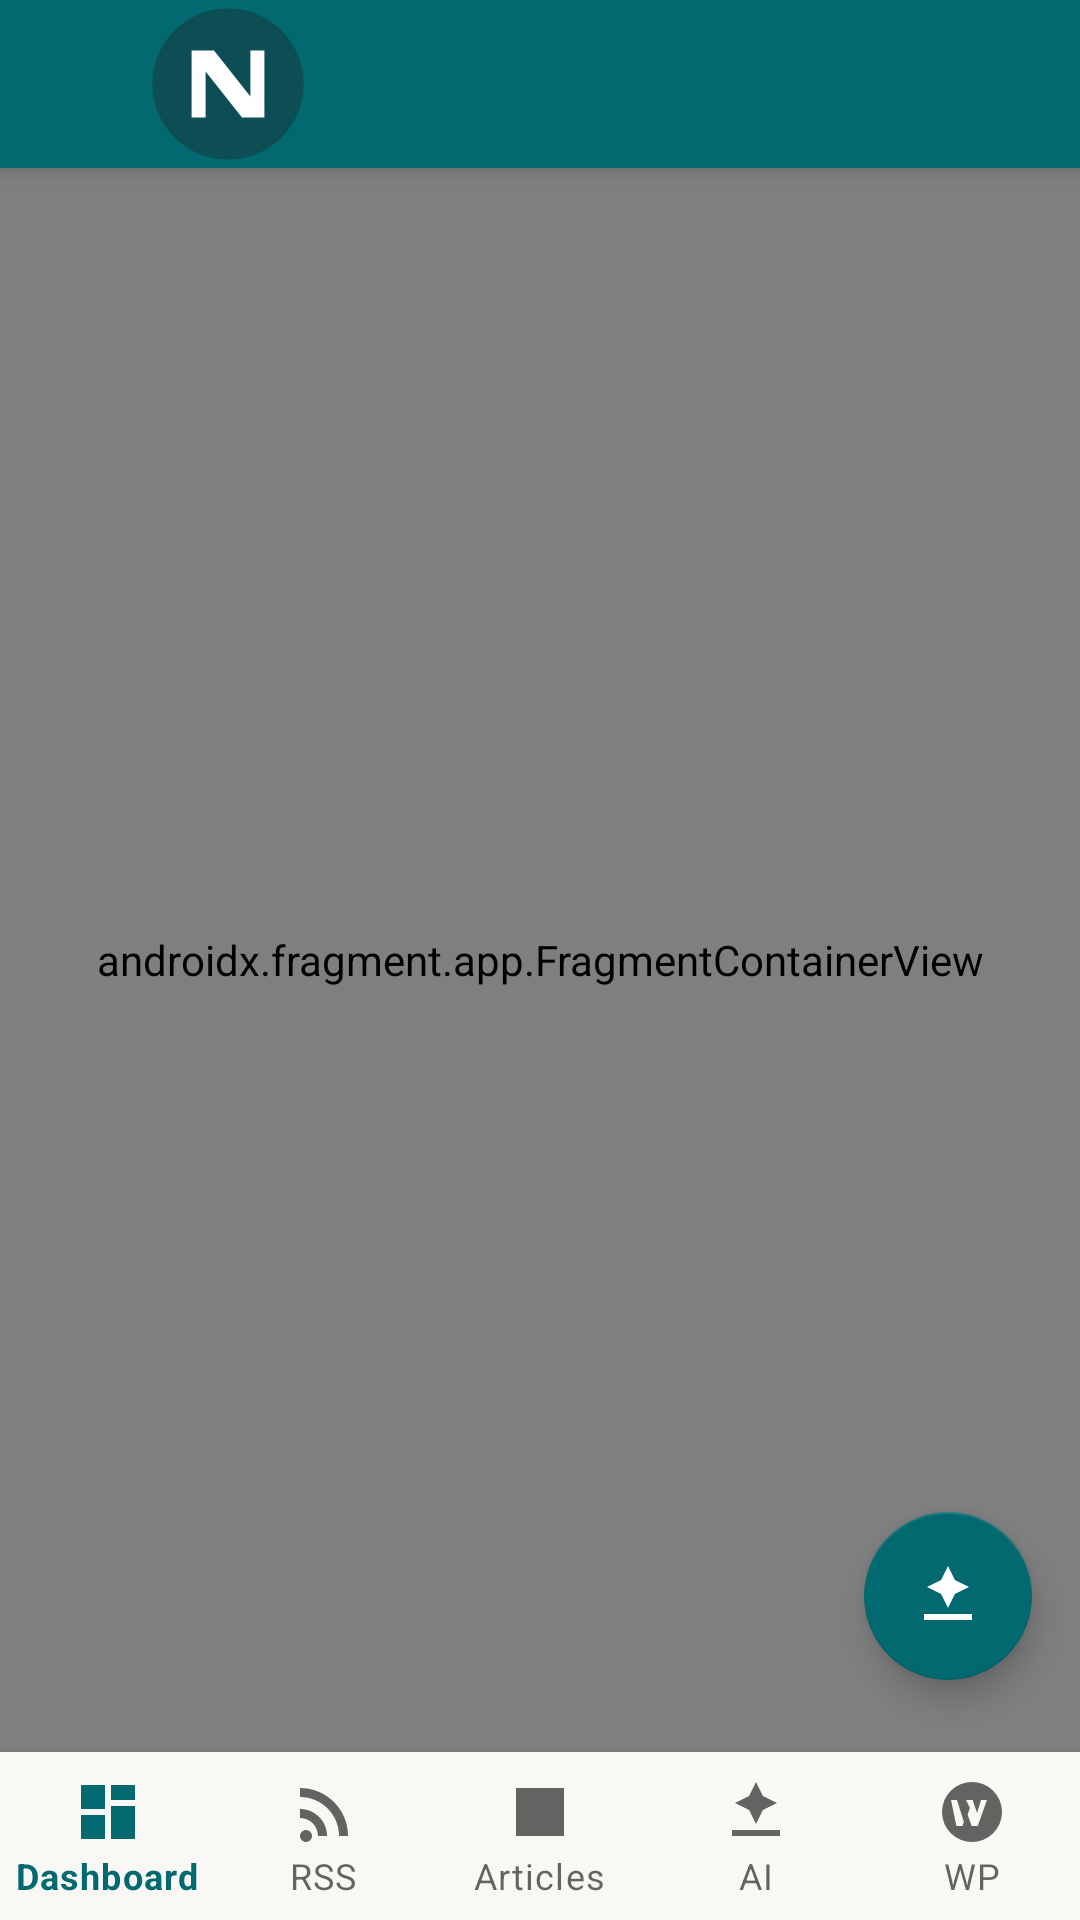

Icons on this 1080 × 1920 Android screen, each with the point to tap as (x=x, y=y):
Open AI Chat: (x=948, y=1596)
